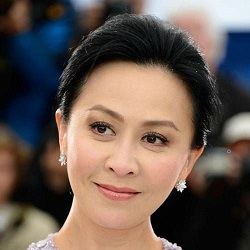unmask: (62, 79, 191, 233)
